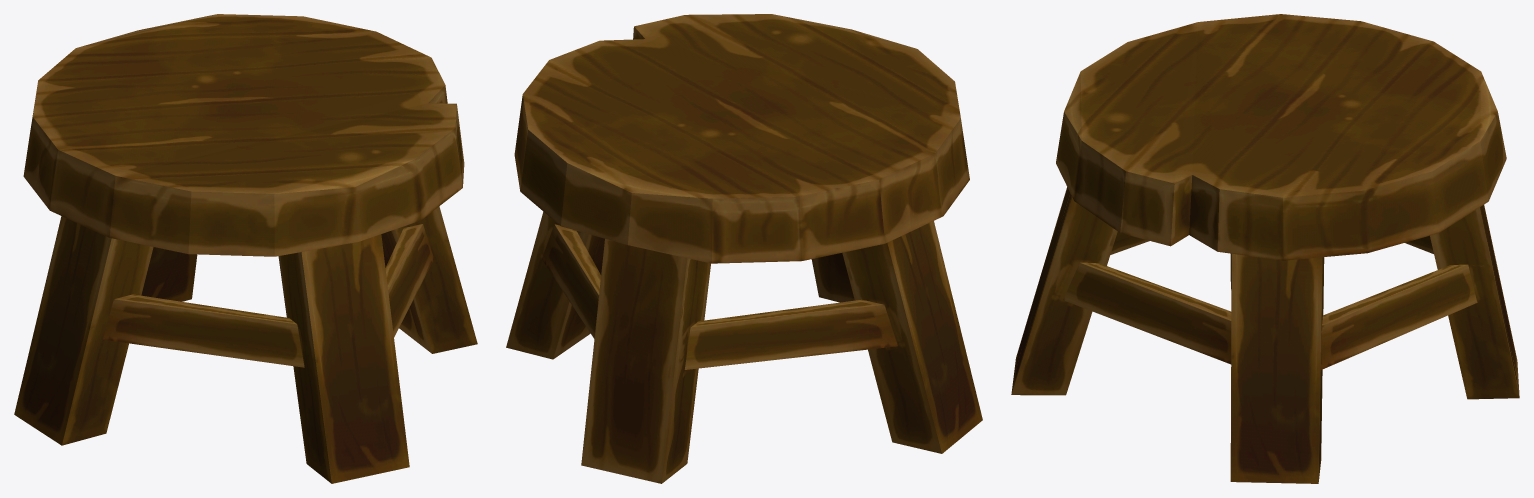
The model's file is SM_Chair_02.gltf.
3 views of the same model, side by side, from view 1: azimuth 30°, elevation 25°; view 2: azimuth 150°, elevation 25°; view 3: azimuth 270°, elevation 25° (orthographic). The views are drawn at different scales.
Visible parts, largest first — view 1: SM_Chair_02; view 2: SM_Chair_02; view 3: SM_Chair_02.
Part boxes in pixels (x1,y1,x2,y2): SM_Chair_02: (14, 14, 477, 483); SM_Chair_02: (506, 14, 982, 483); SM_Chair_02: (1011, 14, 1519, 483).
Bounding box in the file's own units: 0.7915 × 0.4866 × 0.8168.
Materials: 1 (1 with a texture image).
